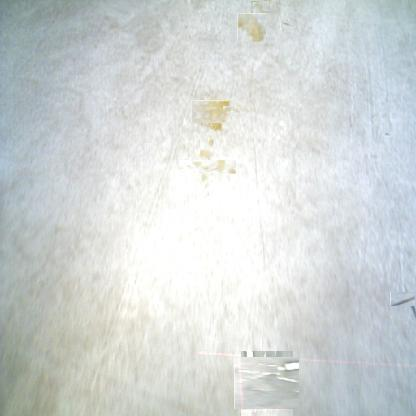liquid: (238, 354, 296, 413), (189, 150, 225, 186), (195, 96, 226, 127), (237, 13, 266, 42), (252, 1, 270, 13), (222, 105, 240, 113)
mark: (396, 286, 416, 312), (281, 20, 292, 31), (382, 130, 390, 138)
